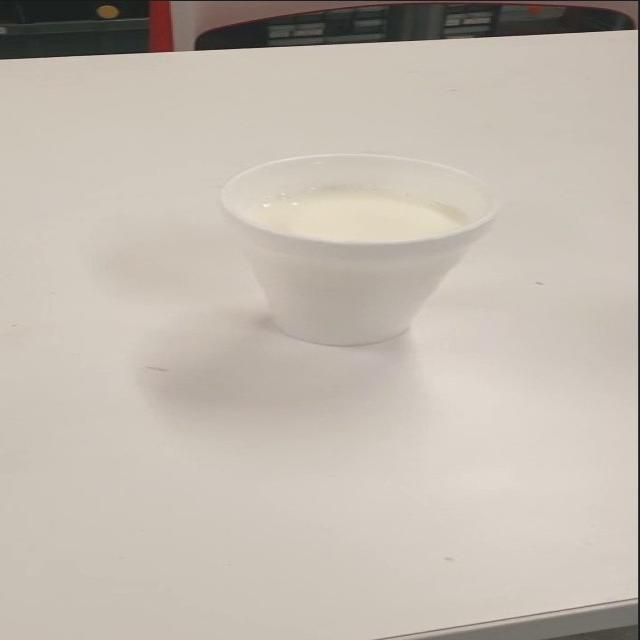milk: (182, 139, 514, 367)
